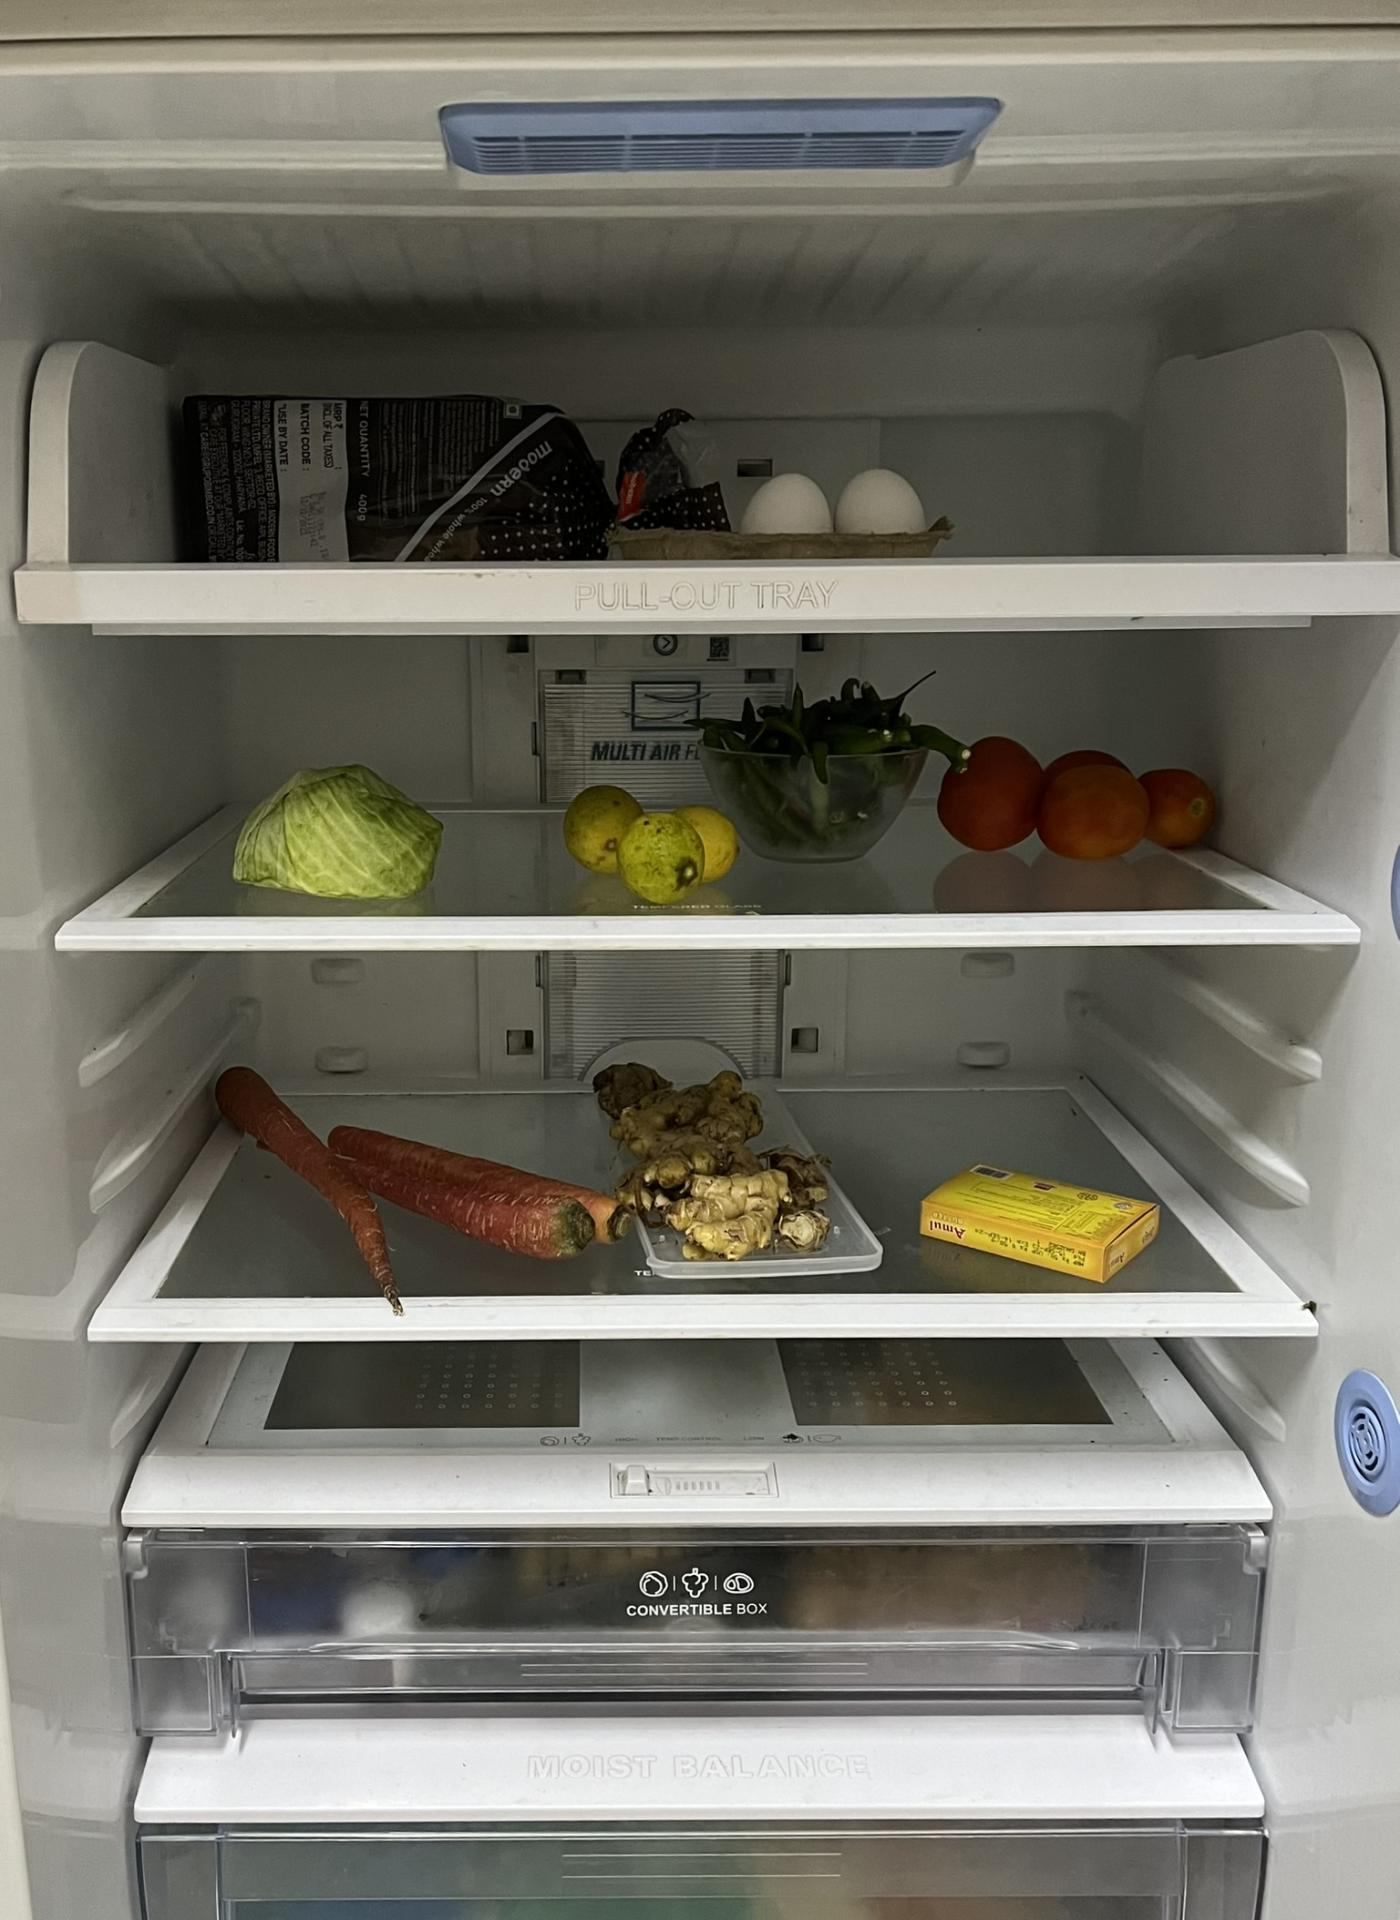bread: (180, 392, 742, 556)
butter: (914, 1158, 1160, 1280)
cabbage: (228, 765, 446, 902)
carrots: (228, 1087, 629, 1270)
chillies: (699, 689, 936, 863)
egg: (744, 462, 932, 549)
ginger: (601, 1066, 838, 1258)
lemon: (559, 784, 745, 900)
tomato: (945, 738, 1220, 860)
